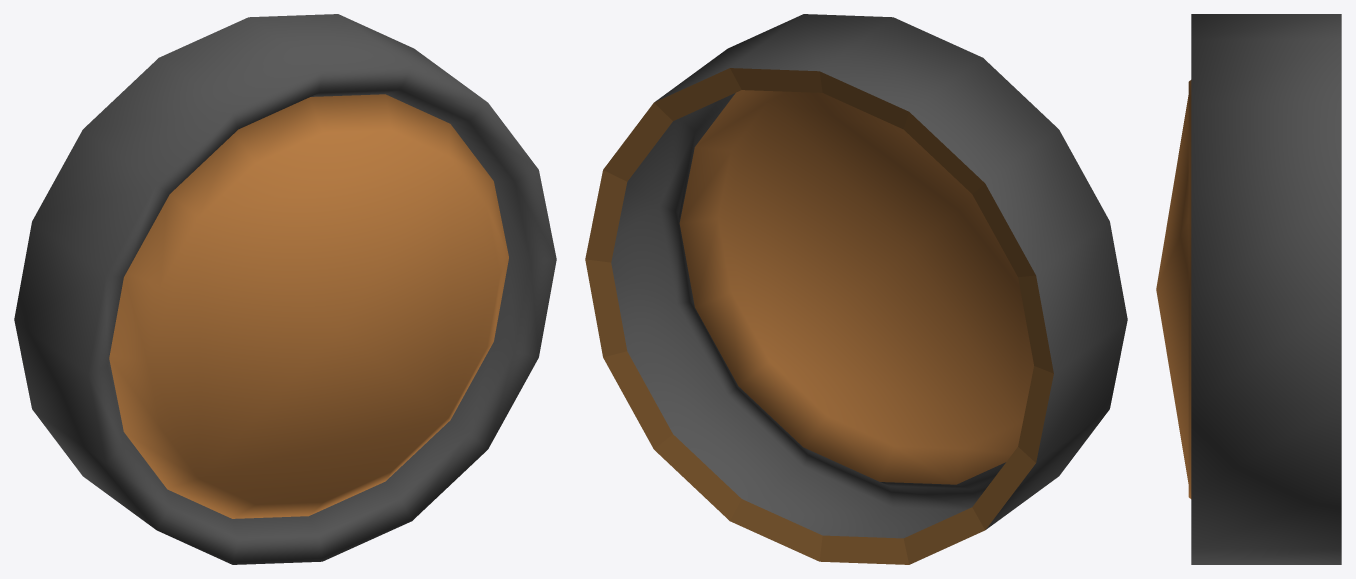
The model's file is Button.fbx.
The picture shows the model from 3 angles, left to right: view 1: azimuth 30°, elevation 25°; view 2: azimuth 150°, elevation 25°; view 3: azimuth 270°, elevation 25°; orthographic projection.
Visible parts, largest first — view 1: Button; view 2: Button; view 3: Button.
Boxes of the visible parts, bbox=[...] form: Button: bbox=[14, 14, 556, 564]; Button: bbox=[585, 14, 1127, 564]; Button: bbox=[1156, 14, 1341, 564].
Size of the model in its own units: 2.28 by 0.7665 by 2.28.
